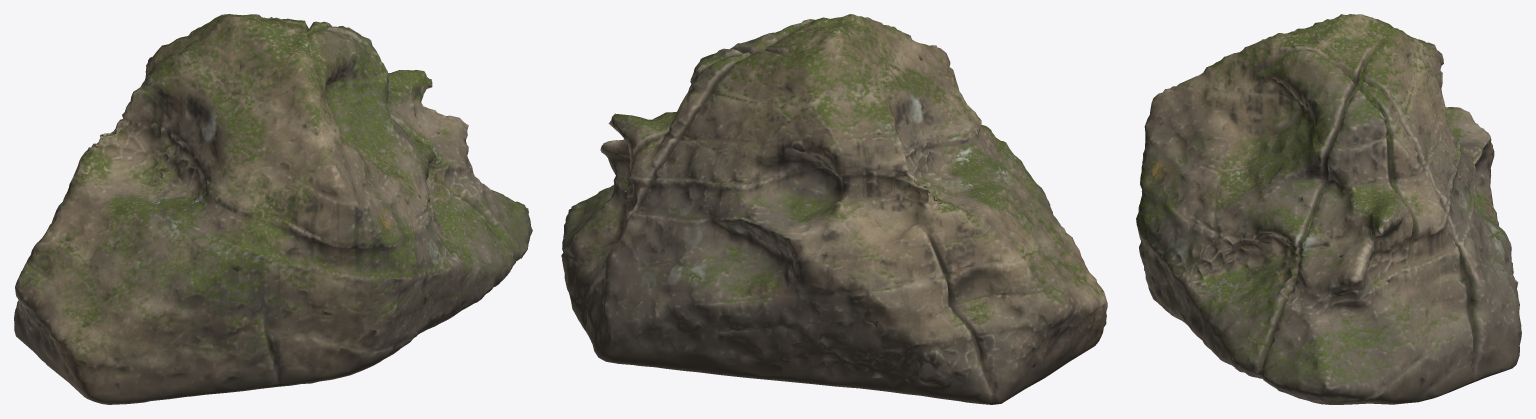
The model's file is balvan_piskovec_1.glb.
The picture shows the model from 3 angles, left to right: view 1: azimuth 30°, elevation 25°; view 2: azimuth 150°, elevation 25°; view 3: azimuth 270°, elevation 25°; orthographic projection. The views are drawn at different scales.
Visible parts, largest first — view 1: balvan_piskovec_1; view 2: balvan_piskovec_1; view 3: balvan_piskovec_1.
Part boxes in pixels (x1,y1,x2,y2): balvan_piskovec_1: (14, 14, 532, 404); balvan_piskovec_1: (561, 14, 1107, 404); balvan_piskovec_1: (1136, 14, 1521, 404).
Bounding box in the file's own units: 2.58 × 1.49 × 1.78.
1 material, 1 textured.
